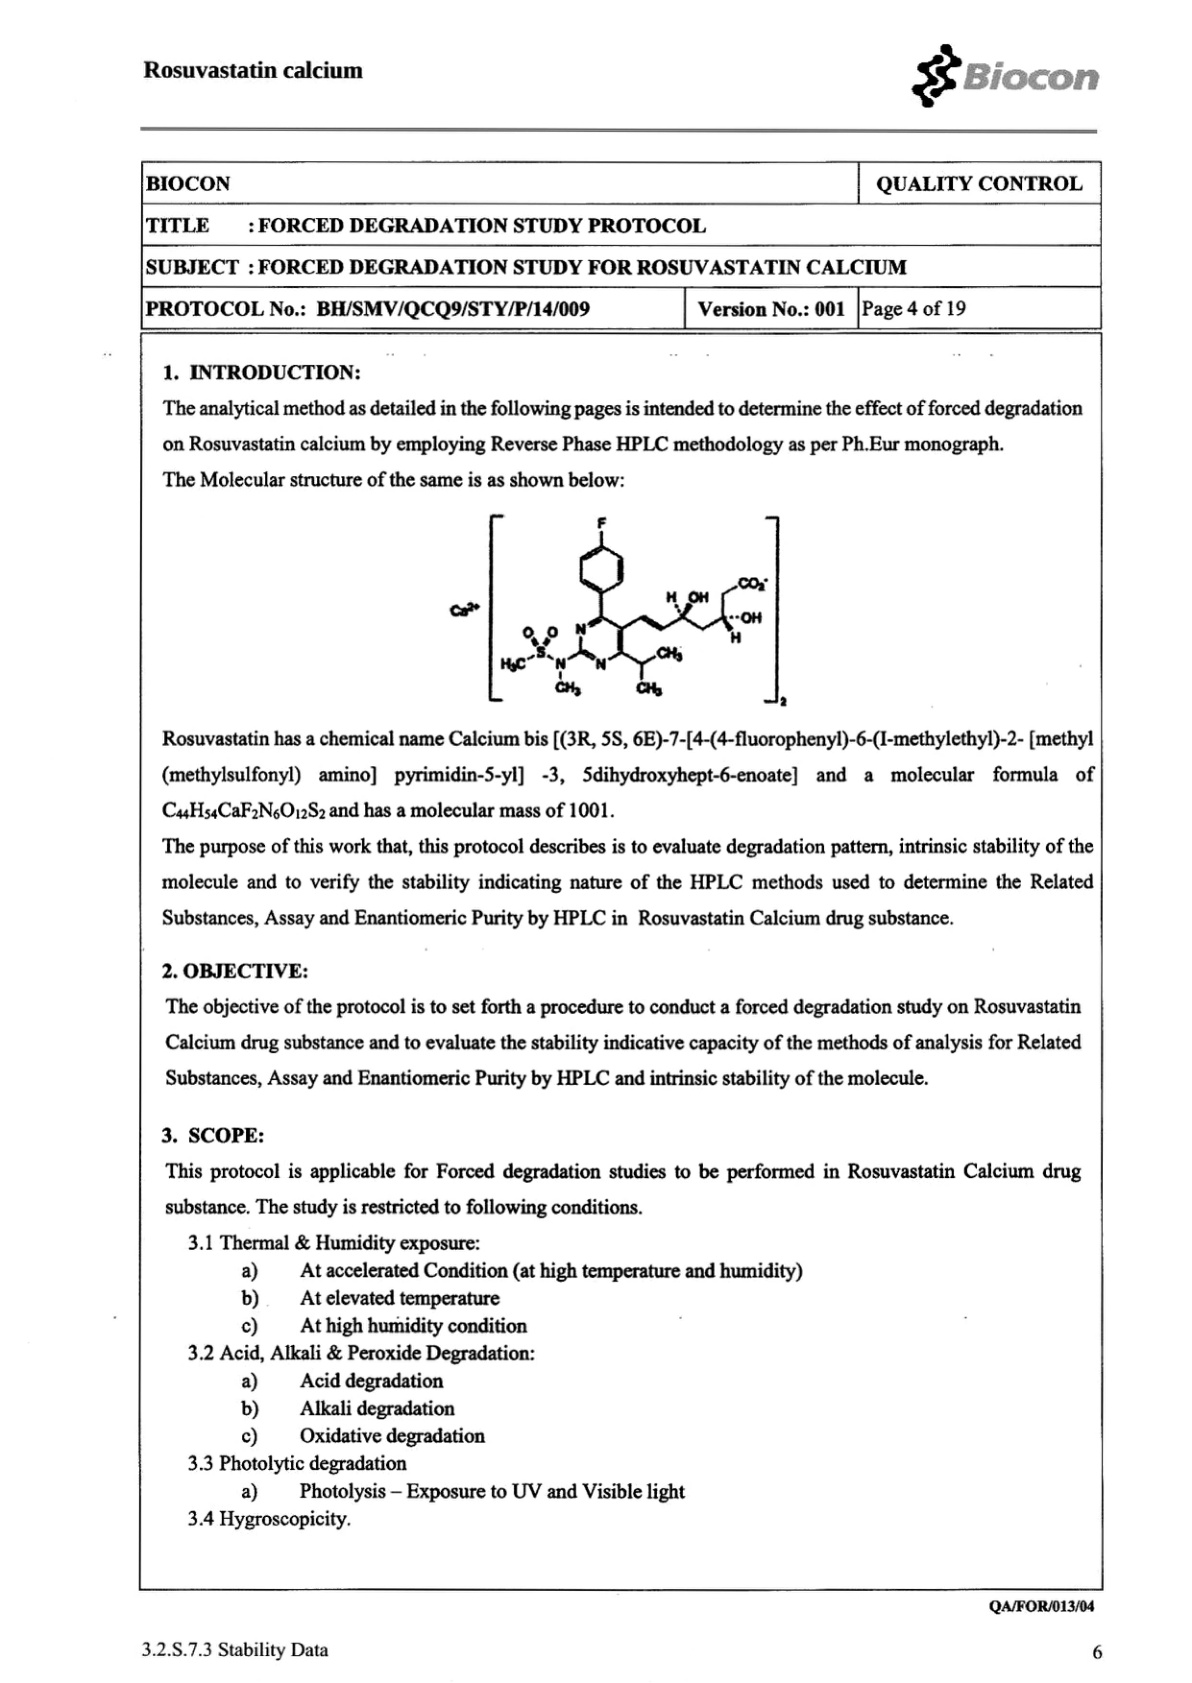merged_cells: (141, 160, 1103, 330)
